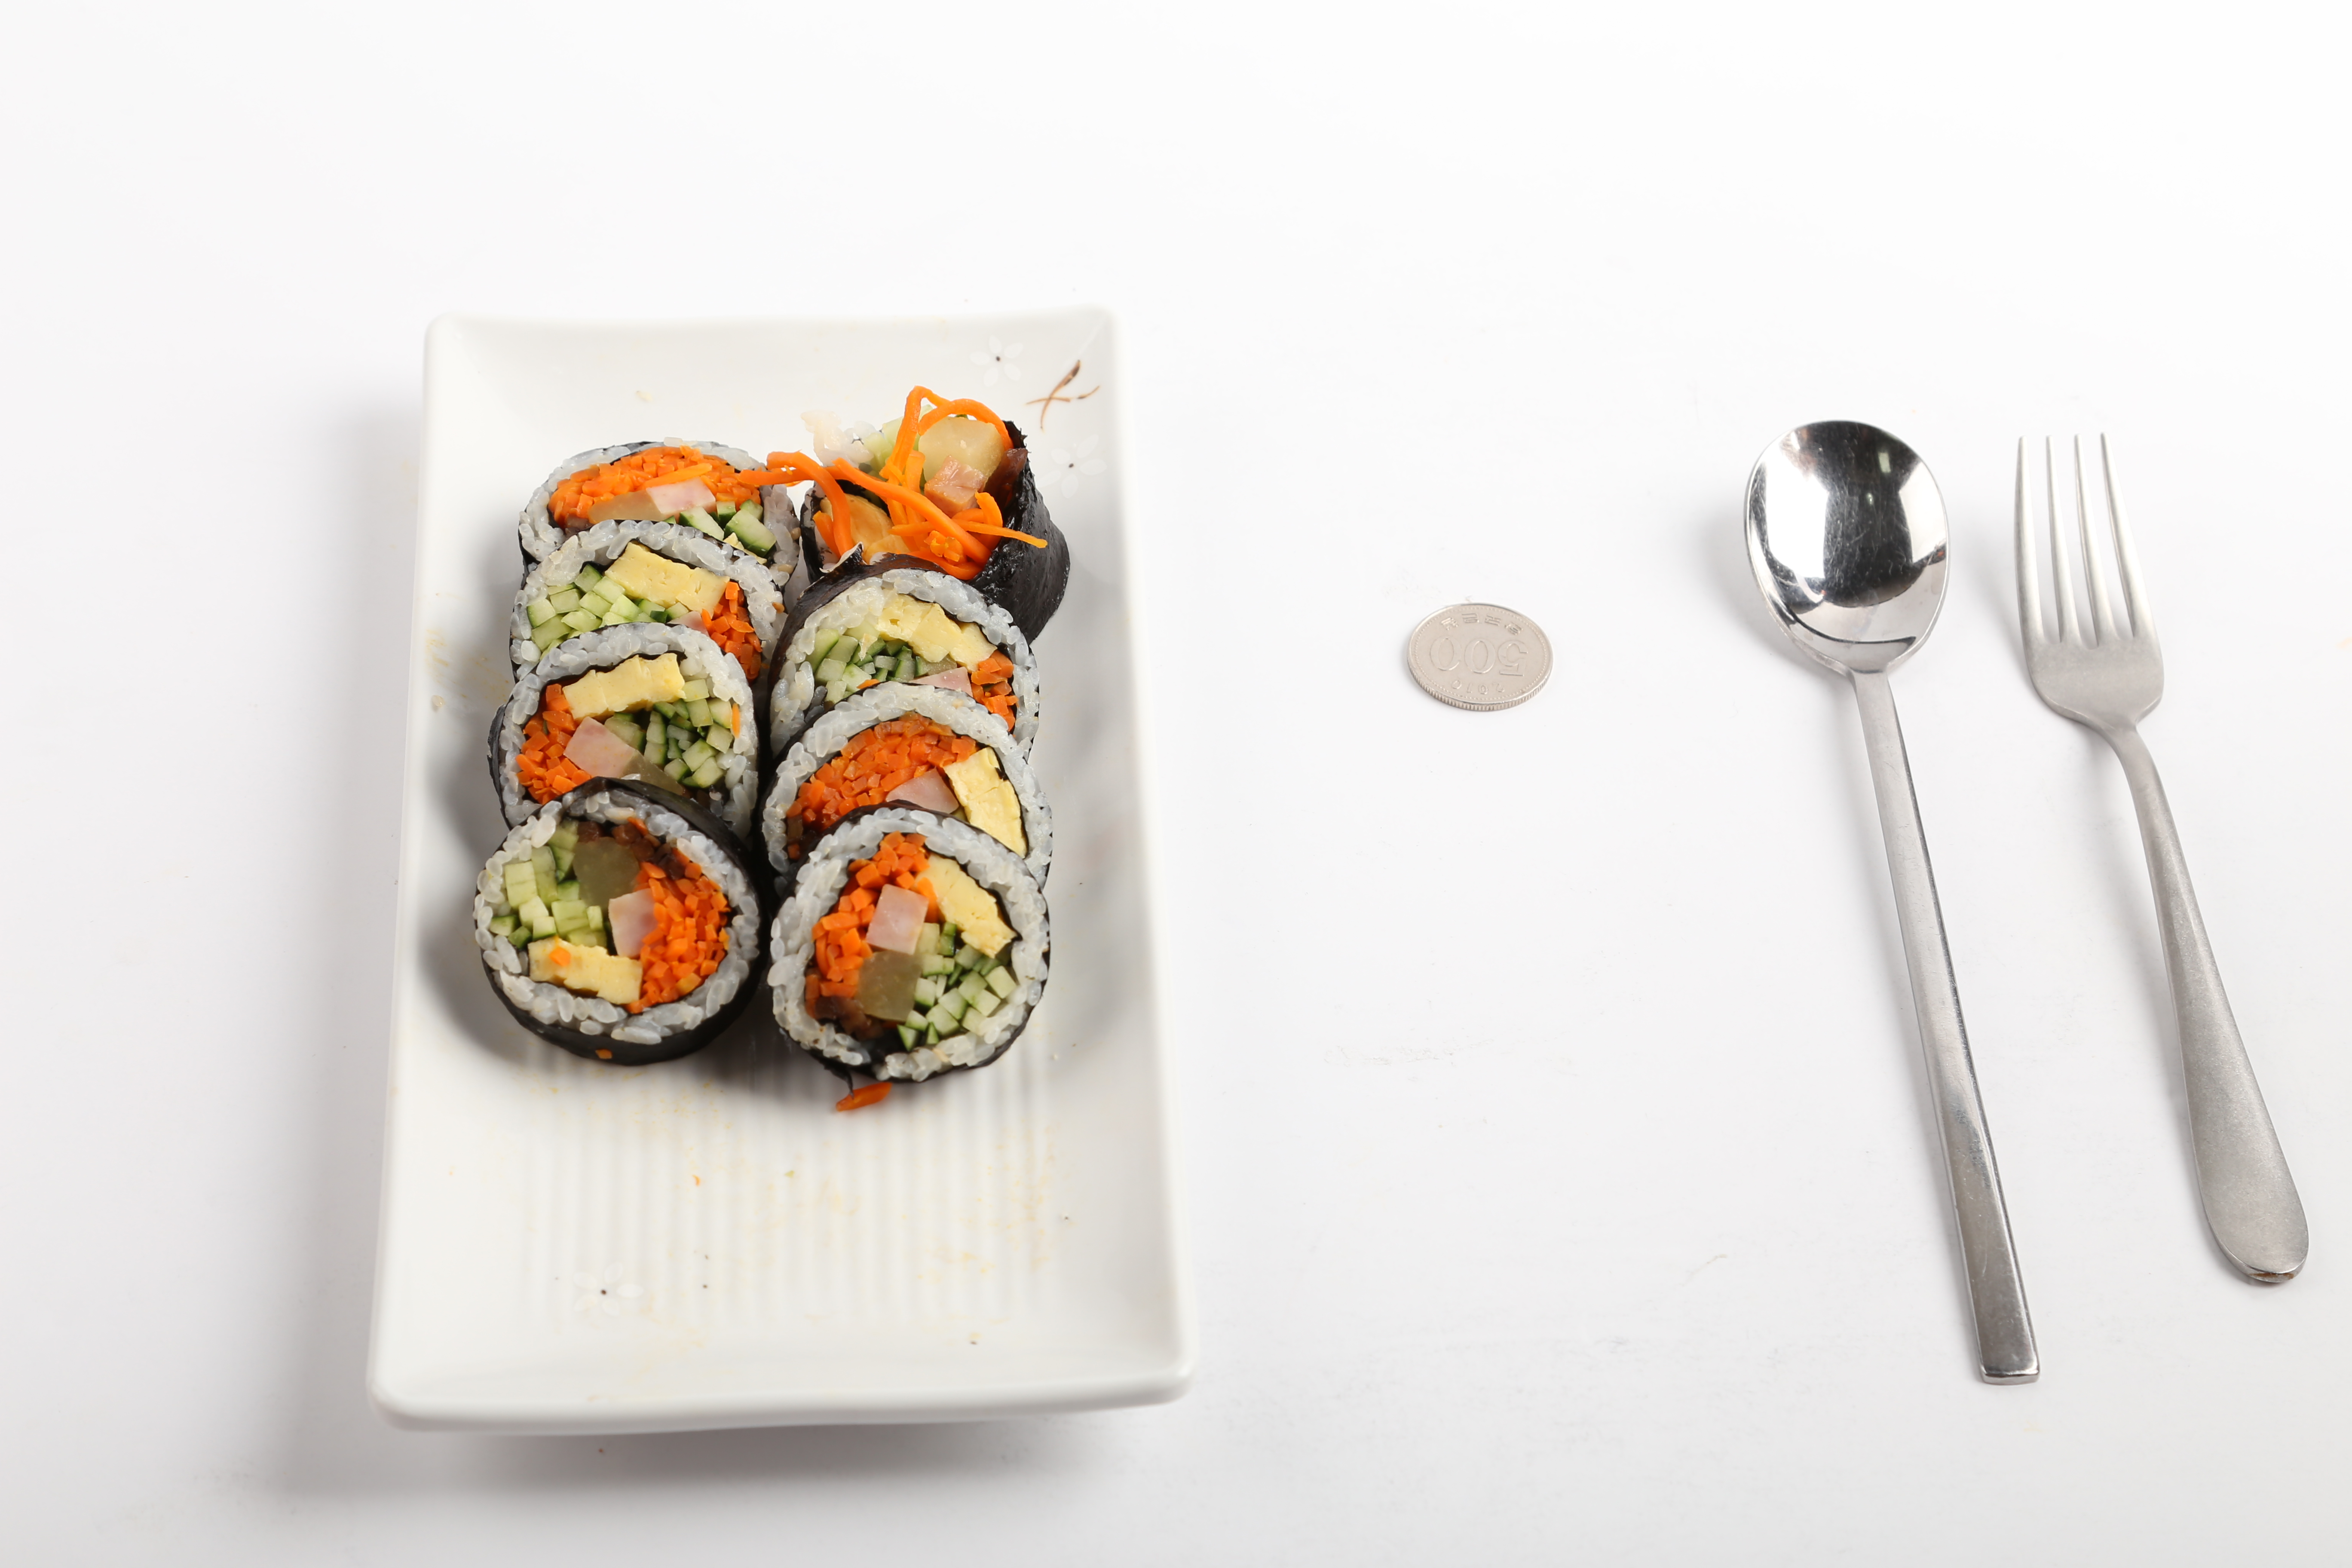dish: (366, 306, 1190, 1435)
ref_coin: (1395, 593, 1559, 712)
ref_fork: (2005, 418, 2168, 780)
ref_spoon: (1741, 411, 1955, 738)
김밥: (465, 380, 1076, 1115)
